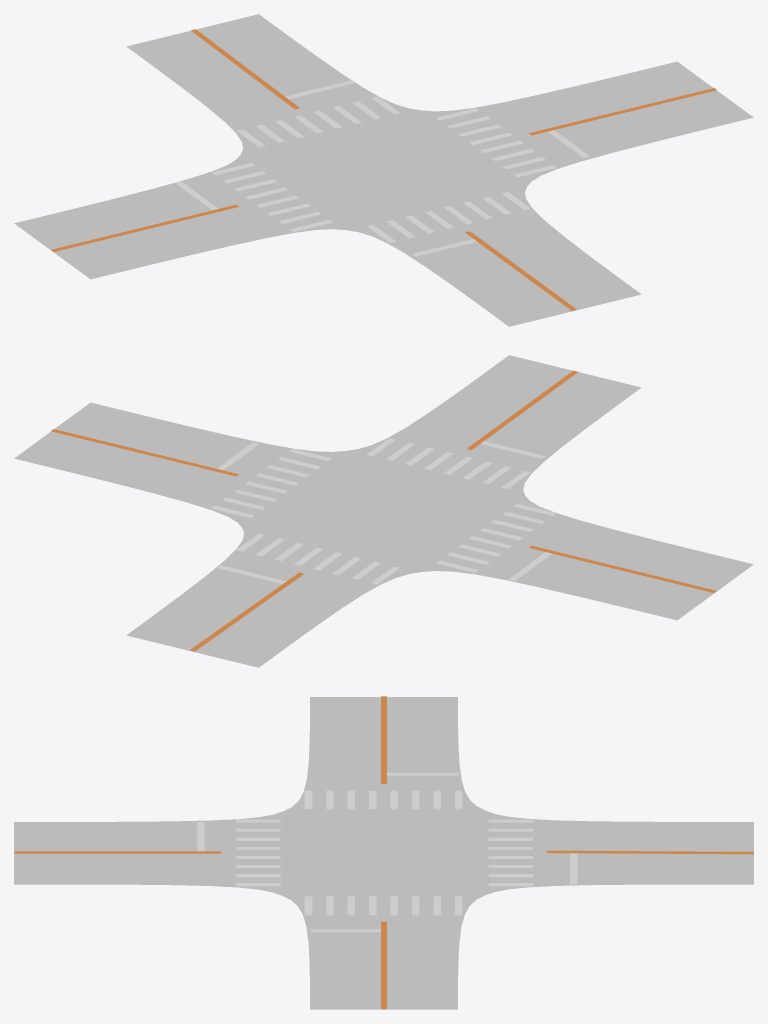
Rendered from cross.fbx.
3 renders of one model, top to bottom at view 1: azimuth 30°, elevation 25°; view 2: azimuth 150°, elevation 25°; view 3: azimuth 270°, elevation 25°, orthographic. The views are drawn at different scales.
Parts seen in each view (by area): view 1: Plane.001, Plane.006, Plane.005, Plane.008, Plane.007, Plane.011, Plane.012, Plane.010, Plane.009; view 2: Plane.001, Plane.006, Plane.005, Plane.007, Plane.008, Plane.011, Plane.012, Plane.009, Plane.010; view 3: Plane.001, Plane.008, Plane.007, Plane.006, Plane.005, Plane.009, Plane.010, Plane.012, Plane.011.
Part boxes in pixels (x1,y1,x2,y2): Plane.001: [14, 14, 753, 326]; Plane.006: [436, 108, 556, 177]; Plane.005: [212, 163, 332, 232]; Plane.008: [367, 192, 530, 242]; Plane.007: [237, 96, 400, 147]; Plane.011: [51, 204, 238, 251]; Plane.012: [529, 88, 716, 135]; Plane.010: [465, 231, 576, 310]; Plane.009: [191, 29, 299, 109]; Plane.001: [14, 355, 753, 667]; Plane.006: [211, 449, 332, 517]; Plane.005: [436, 503, 556, 572]; Plane.007: [236, 533, 399, 584]; Plane.008: [367, 438, 530, 488]; Plane.011: [529, 545, 716, 592]; Plane.012: [51, 429, 238, 476]; Plane.009: [189, 572, 303, 651]; Plane.010: [466, 370, 578, 450]; Plane.001: [14, 697, 753, 1009]; Plane.008: [236, 819, 280, 886]; Plane.007: [488, 819, 532, 886]; Plane.006: [304, 896, 462, 915]; Plane.005: [304, 790, 462, 809]; Plane.009: [546, 850, 753, 854]; Plane.010: [14, 851, 221, 853]; Plane.012: [381, 921, 386, 1009]; Plane.011: [381, 696, 386, 783].
Size of the model in its own units: 1000 by 0.6001 by 1000.
